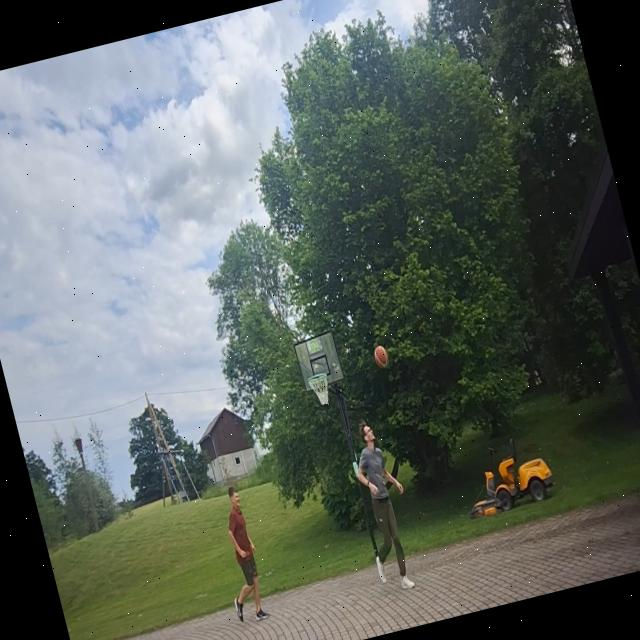ball: (371, 342, 392, 371)
basket: (306, 371, 336, 408)
player: (342, 418, 428, 598), (203, 482, 274, 629)
